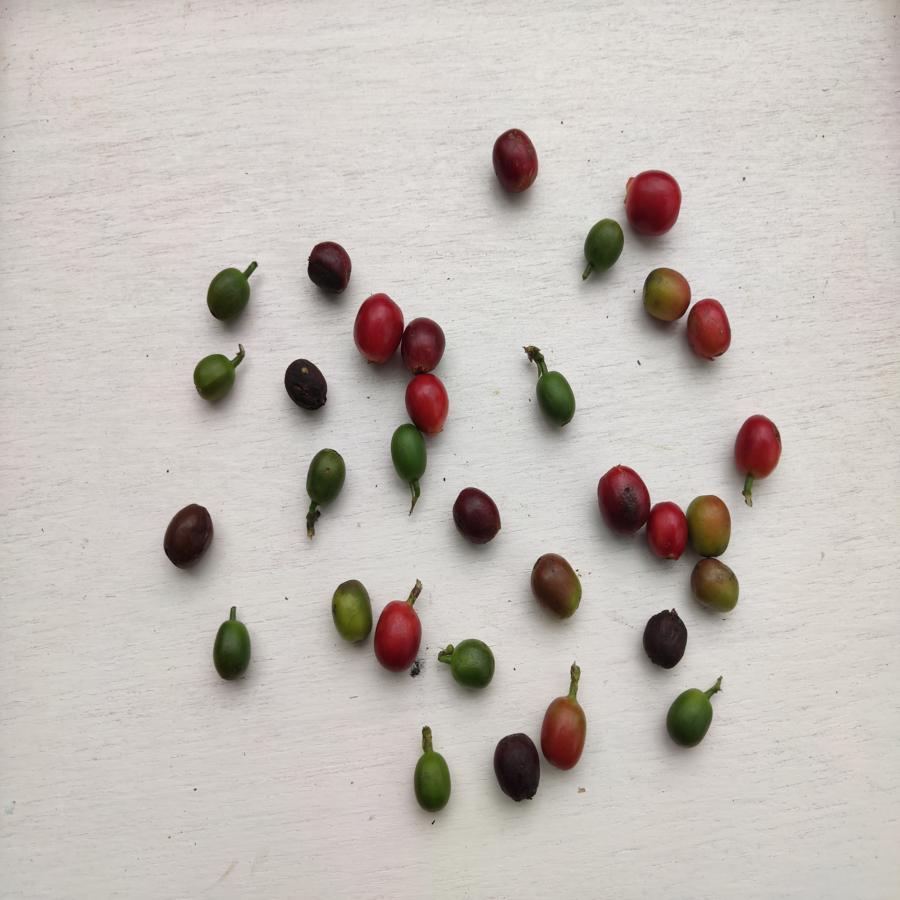Inmaduro: (407, 748, 454, 810), (666, 687, 715, 744), (302, 449, 349, 508), (533, 368, 578, 428), (204, 267, 253, 322), (187, 350, 237, 403), (210, 618, 252, 680), (446, 637, 495, 687), (387, 425, 426, 483), (581, 219, 623, 272)
Maduro: (369, 596, 427, 675), (621, 167, 685, 237), (350, 294, 401, 367), (733, 413, 781, 483), (402, 371, 454, 435), (685, 298, 735, 363), (649, 502, 688, 560)
Pinton: (540, 693, 591, 774), (529, 553, 586, 620), (692, 554, 741, 614), (328, 582, 374, 644), (687, 494, 732, 557), (640, 266, 689, 321)
Sobremaduro: (593, 462, 650, 539), (159, 502, 215, 568), (491, 732, 543, 803), (636, 609, 695, 671), (491, 128, 544, 196), (450, 486, 503, 546), (284, 355, 332, 418), (302, 243, 356, 290), (404, 317, 448, 370)
